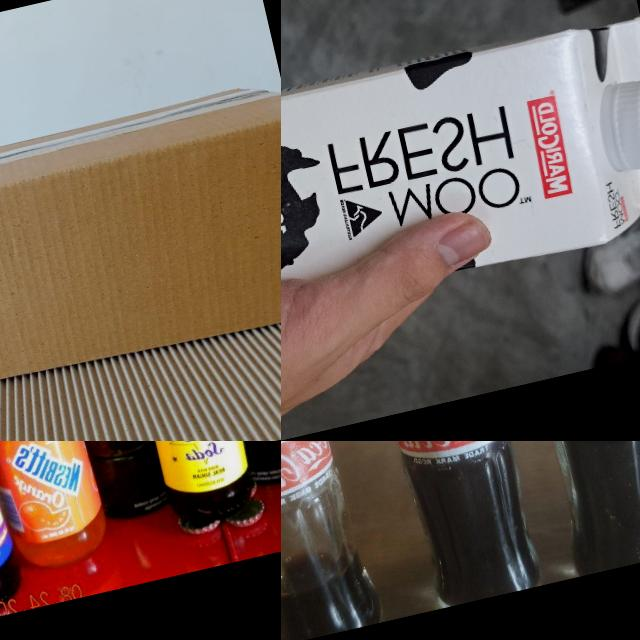caixinha: (281, 6, 640, 368)
garrafa de vidro: (335, 441, 548, 610), (474, 441, 640, 577), (281, 441, 389, 640), (99, 441, 265, 540), (1, 441, 179, 529), (0, 441, 113, 578)
papelão: (0, 72, 281, 441)
tampa plástica: (593, 74, 640, 173)
